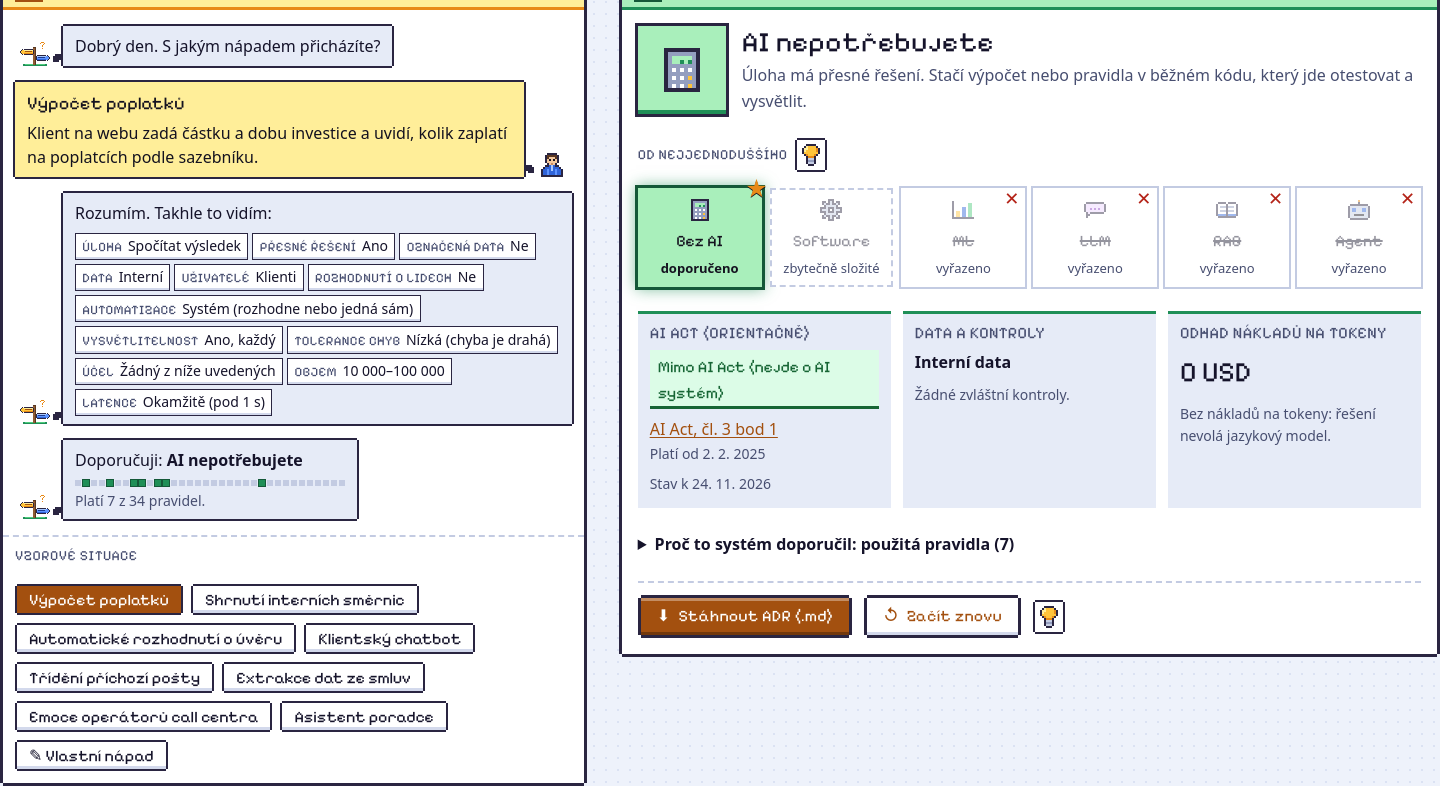
Scenario: IntakePage › starting again leaves only the greeting and the sample situations
(page scrolled)
Click the button "↺ Začít znovu".
click(943, 616)  # box [867, 598, 1018, 635]
(page scrolled)
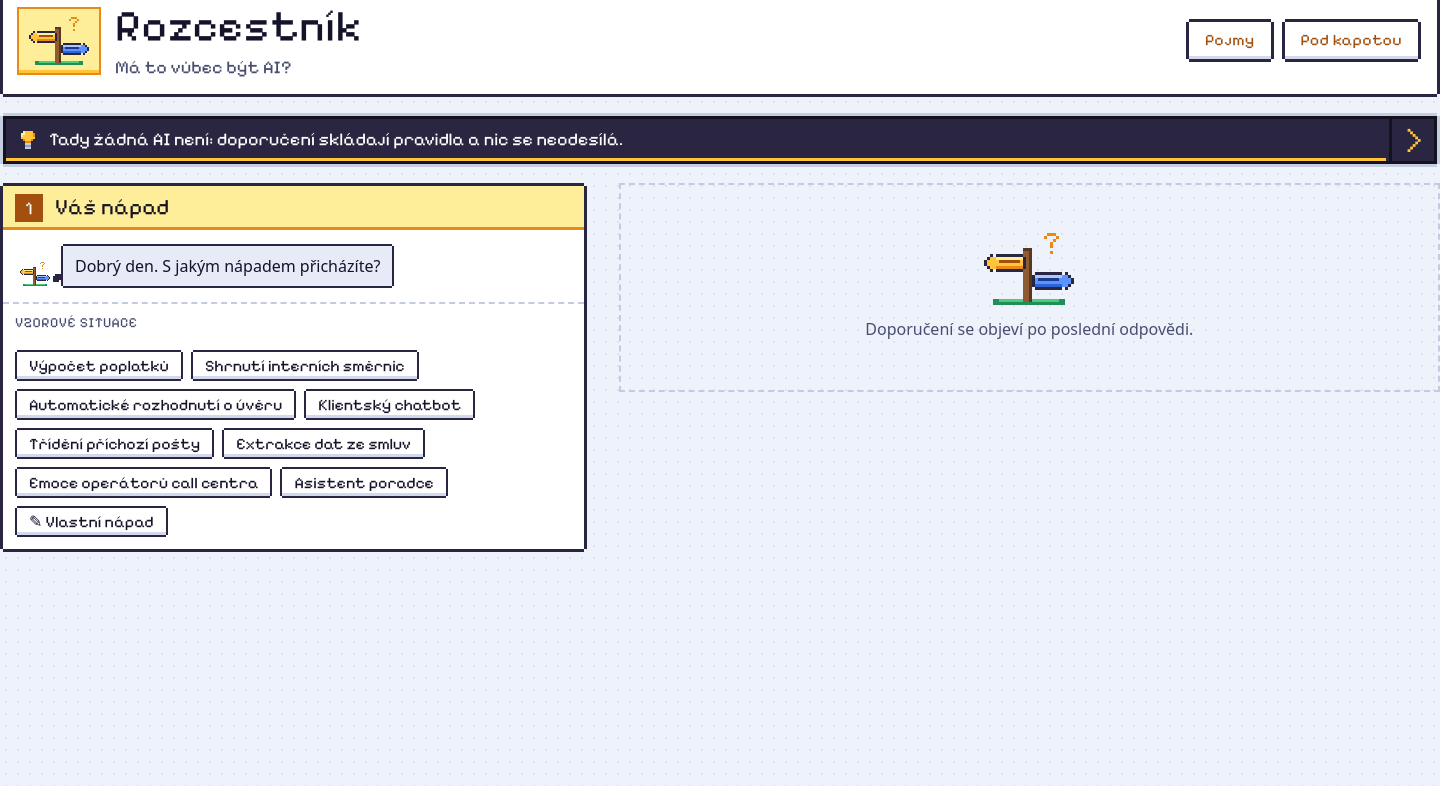
Check: the text "Dobrý den. S jakým nápadem přicházíte?" is shown, box [63, 246, 392, 286]
Check: the button "Výpočet poplatků" is not pressed, box [17, 352, 181, 379]
